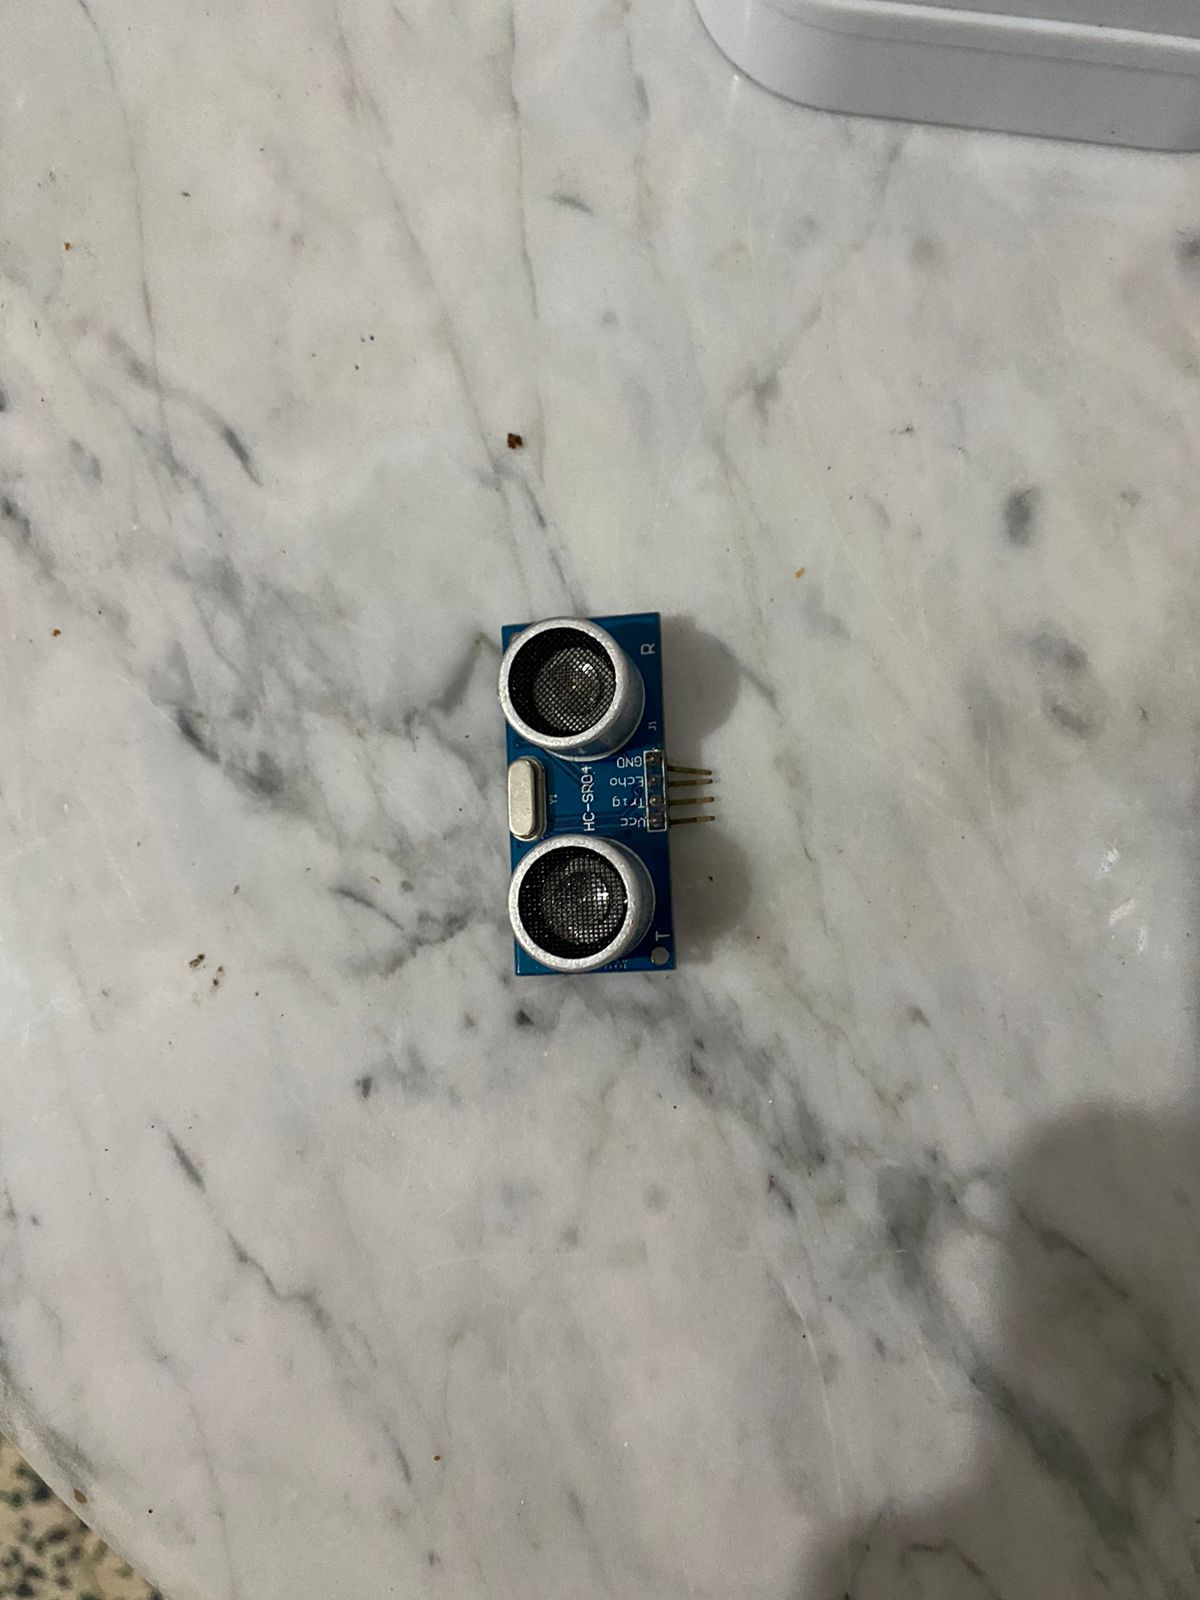capteur-ultrasonique: (466, 598, 726, 995)
